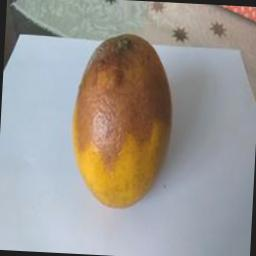Orange Rotten: (51, 14, 186, 216)
